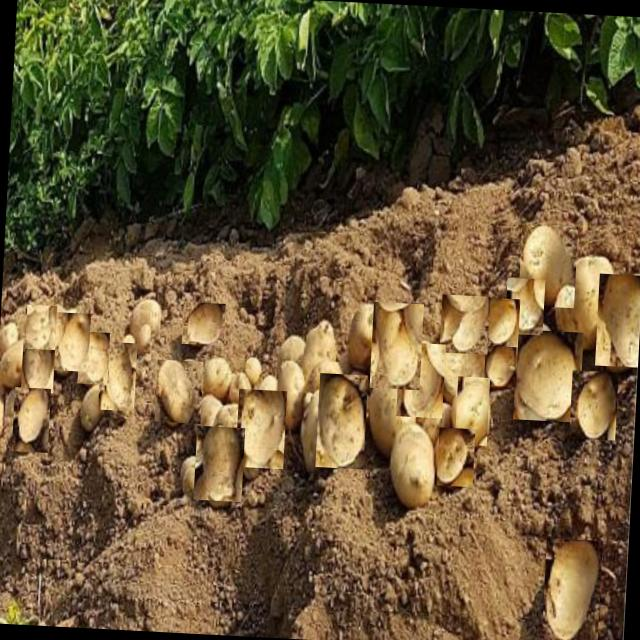Potato: (550, 252, 616, 358), (512, 328, 583, 422), (540, 537, 601, 640), (314, 372, 368, 468), (517, 222, 577, 308), (369, 301, 423, 389), (594, 272, 640, 366), (362, 376, 418, 452), (384, 426, 437, 506), (234, 388, 286, 468), (192, 425, 245, 501), (395, 342, 445, 418), (568, 370, 618, 440), (344, 298, 389, 367), (154, 358, 202, 422), (438, 294, 489, 354), (297, 320, 348, 380), (270, 354, 314, 422), (438, 336, 486, 396), (97, 340, 137, 410), (11, 386, 50, 452), (454, 375, 489, 445), (51, 311, 90, 371), (504, 276, 544, 334), (436, 426, 474, 486), (121, 292, 163, 344), (180, 301, 224, 345), (20, 338, 54, 392), (75, 380, 114, 426), (76, 331, 109, 384), (485, 296, 519, 346), (196, 356, 234, 399), (24, 304, 57, 349), (483, 344, 517, 386)
